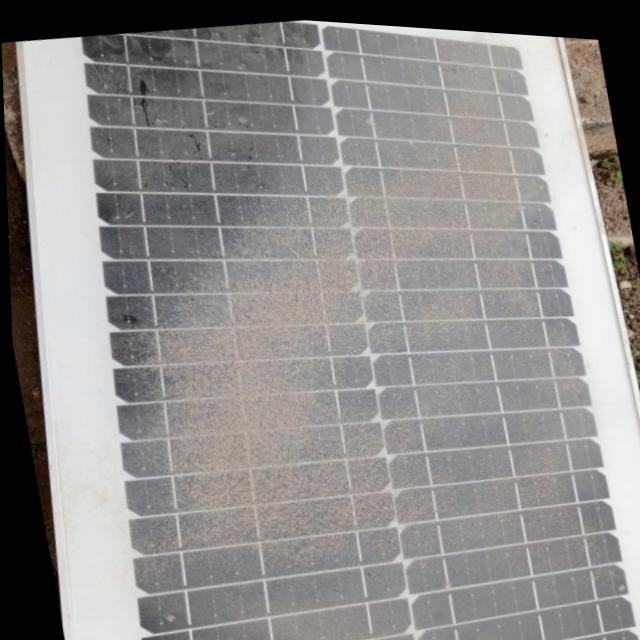Anomaly Solar Panel: (85, 4, 609, 640)
Surface Contaminant: (87, 25, 608, 640)
